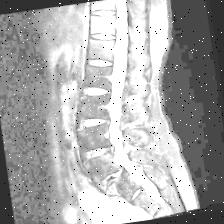disc: (83, 80, 116, 102), (88, 27, 120, 48), (86, 54, 118, 74), (90, 4, 121, 22)
hdisc: (90, 167, 134, 198), (82, 142, 119, 162), (80, 111, 114, 132)
